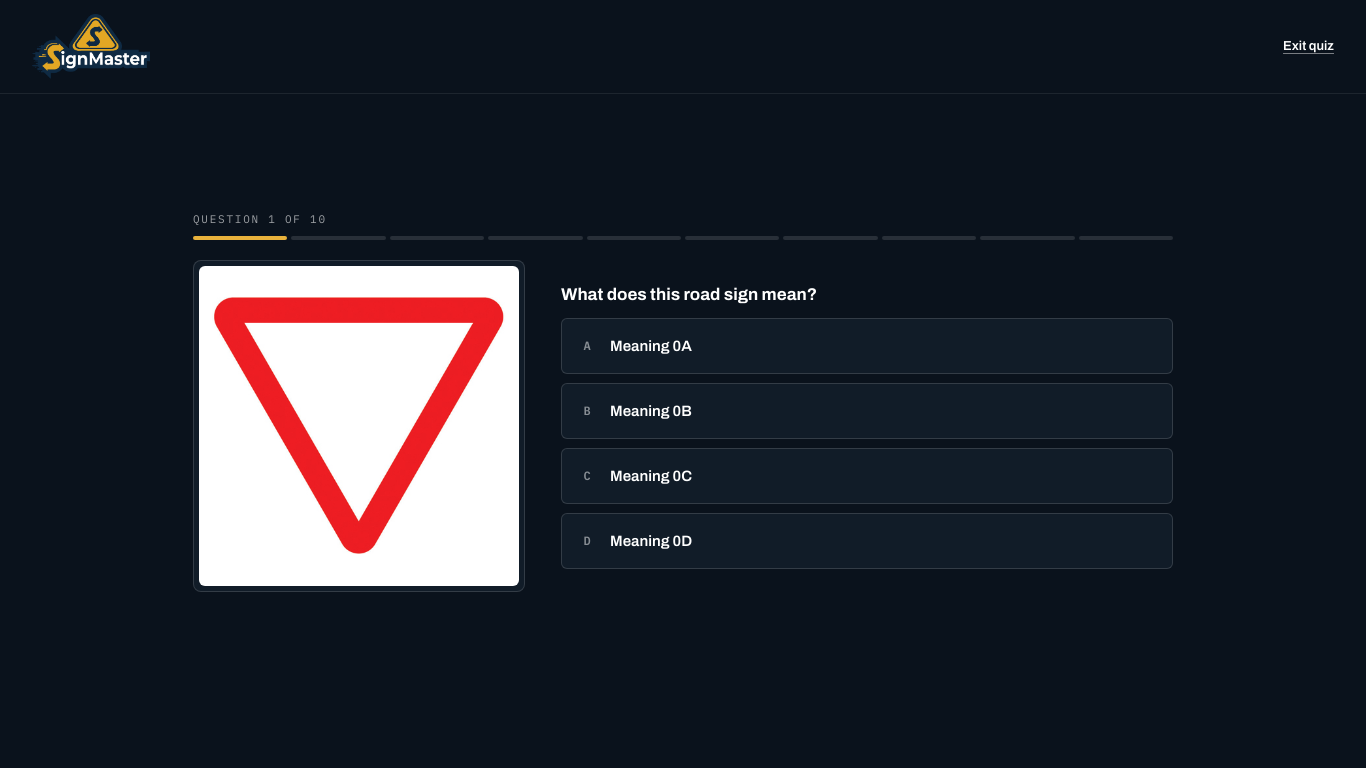
QuizScreen › reveals the right answer beside the wrong one it was given
Click the button with test id "answer-option-0" at (651, 346), box [561,318,1173,374]
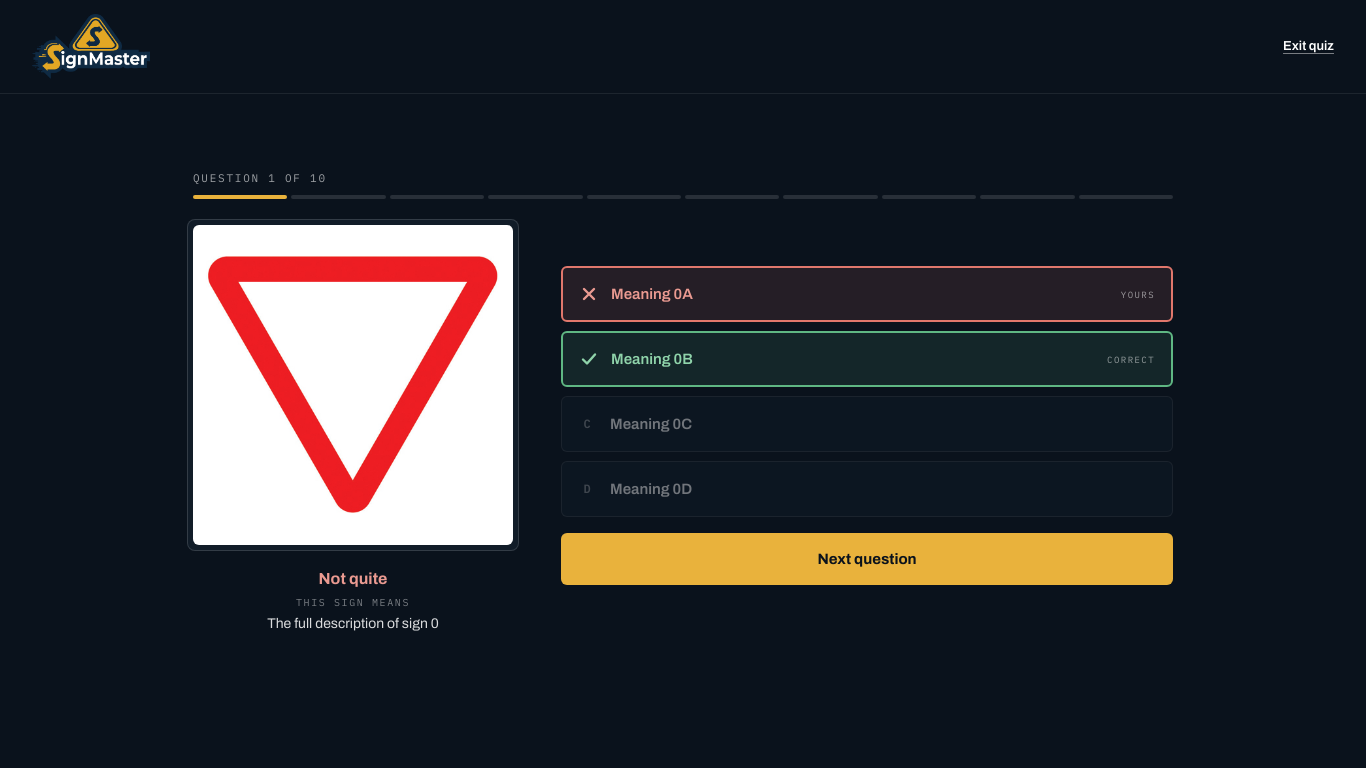
Check: the text "Not quite" is shown, box [318,570,387,587]
